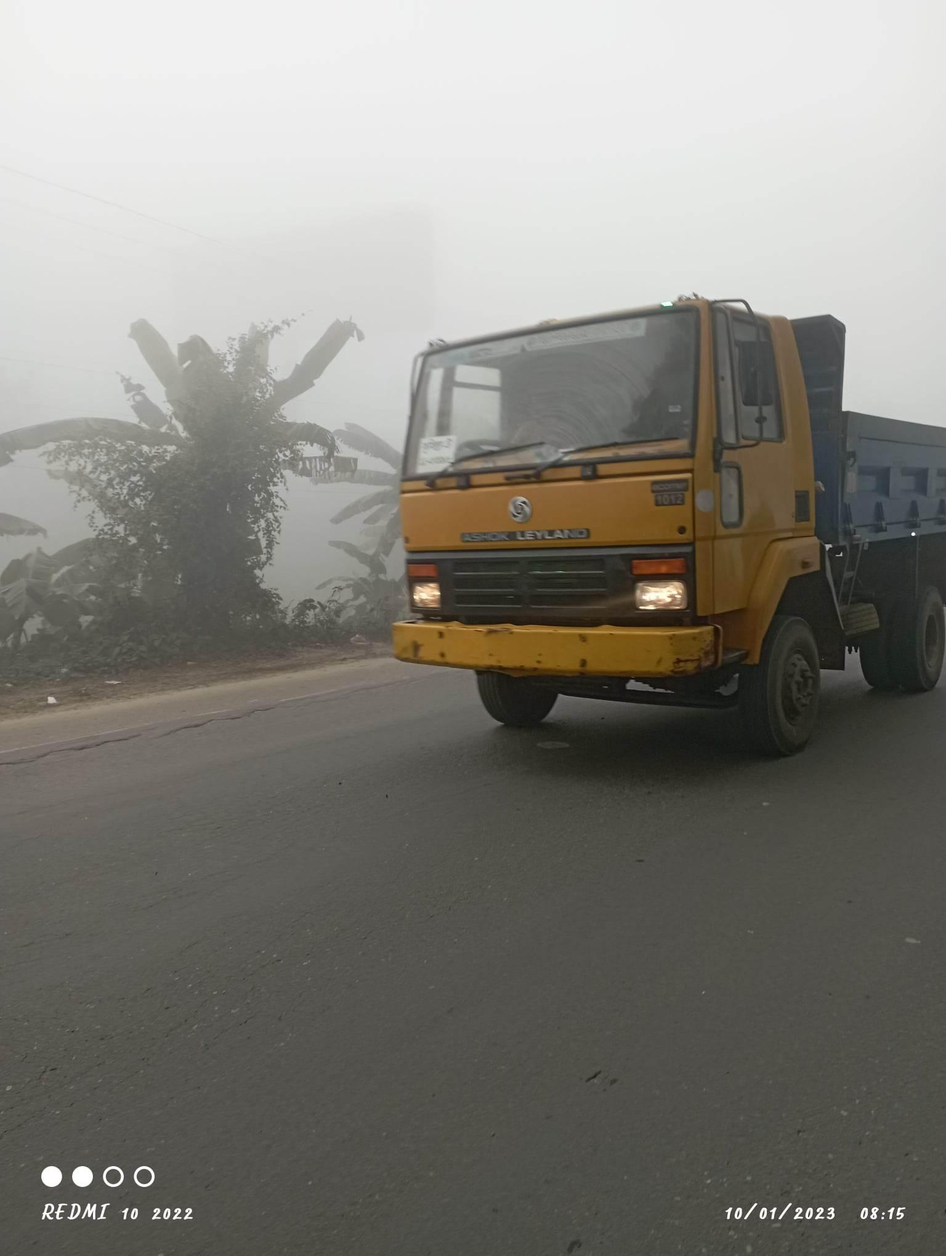Truck: (340, 257, 939, 763)
